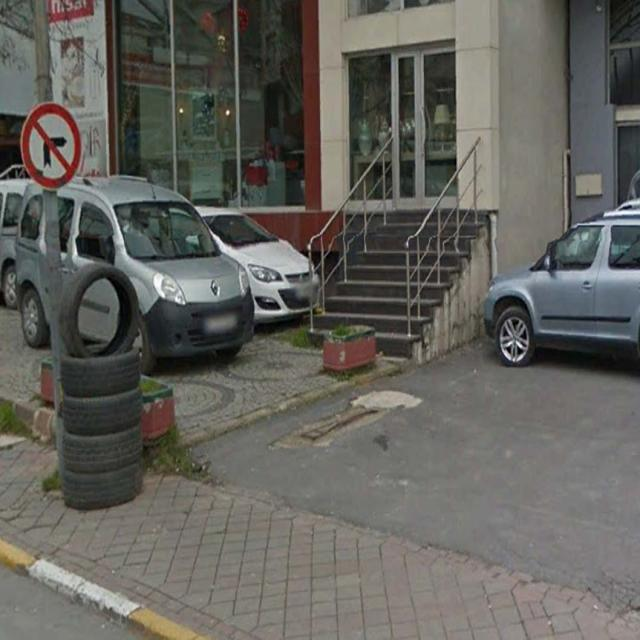sagadonulmez: (20, 102, 81, 190)
